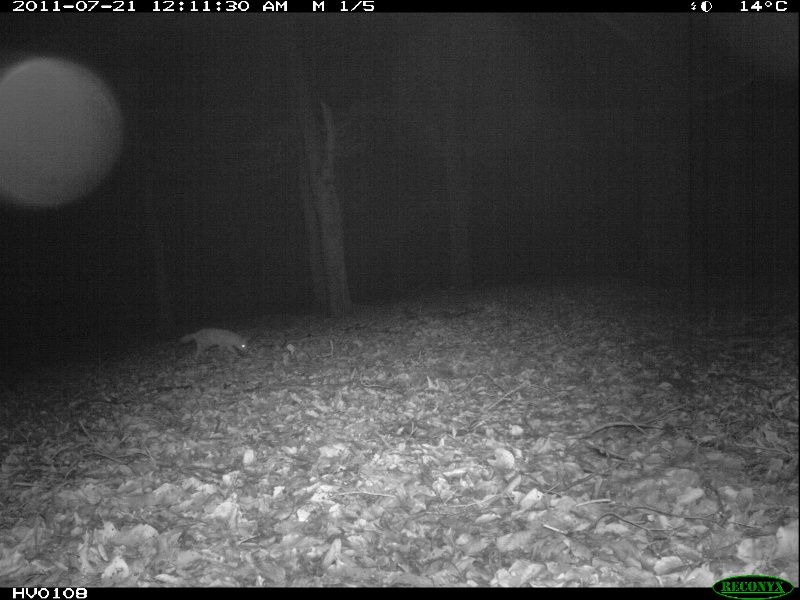fox: (174, 326, 254, 362)
